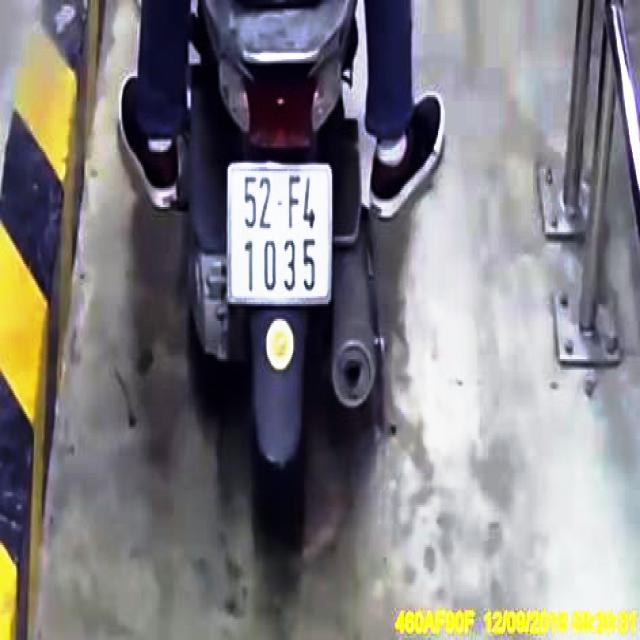license_plate: (228, 166, 334, 301)
